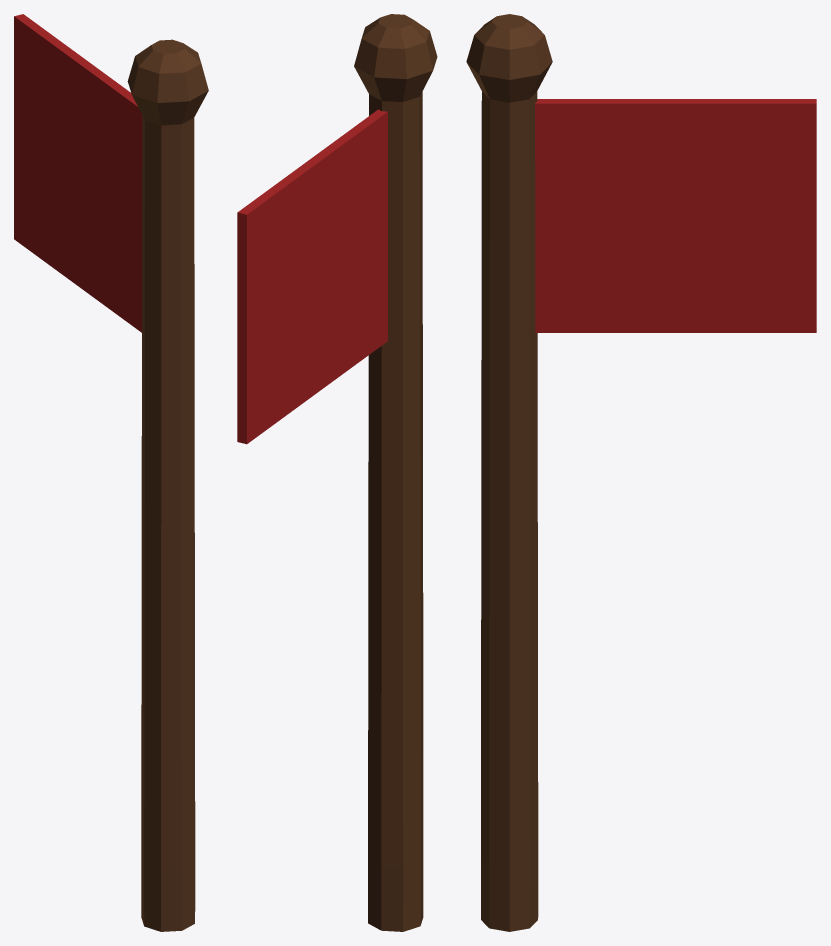
Rendered from CheckpointRed.fbx.
3 renders of one model, left to right at view 1: azimuth 30°, elevation 25°; view 2: azimuth 150°, elevation 25°; view 3: azimuth 270°, elevation 25°, orthographic. The views are drawn at different scales.
Visible parts, largest first — view 1: Cylinder.006; view 2: Cylinder.006; view 3: Cylinder.006.
Part boxes in pixels (box(x1,y1,x2,y2)): Cylinder.006: box(14, 14, 208, 931); Cylinder.006: box(237, 14, 437, 931); Cylinder.006: box(466, 14, 816, 931).
Bounding box in the file's own units: 10.57 × 121 × 42.85.
Materials: 1 (1 with a texture image).
